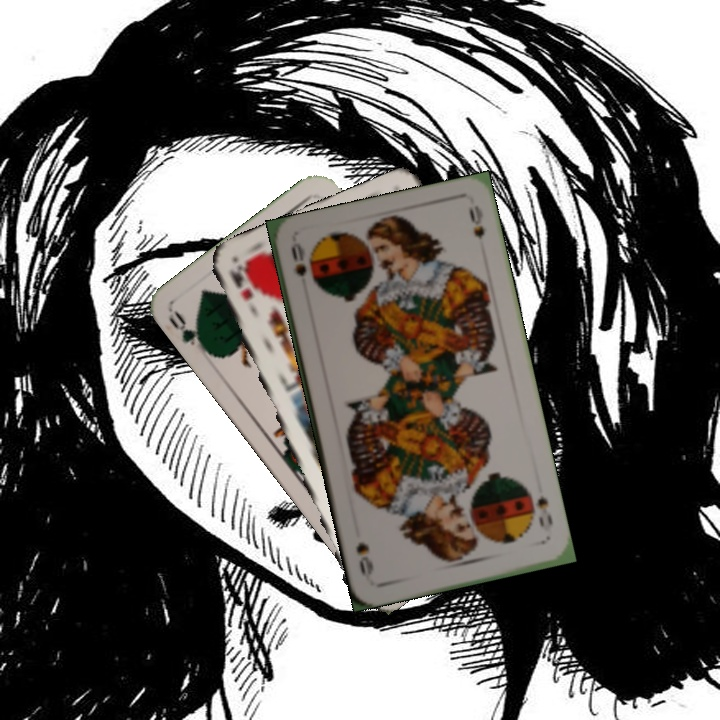GO: (164, 307, 211, 356)
HK: (225, 261, 256, 303)
SO: (287, 239, 309, 280), (532, 491, 555, 530)
